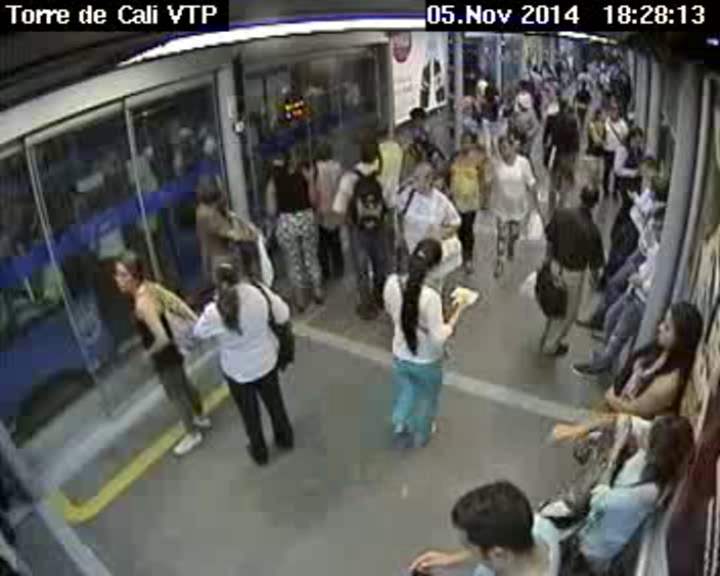person: (439, 472, 552, 572), (639, 406, 698, 483), (652, 291, 706, 365), (407, 231, 445, 289), (103, 251, 148, 297), (203, 253, 242, 287), (647, 205, 674, 248), (409, 157, 436, 193), (576, 177, 599, 215), (195, 181, 225, 209), (310, 135, 338, 164), (453, 127, 481, 156), (647, 174, 670, 208), (358, 135, 381, 168), (496, 131, 518, 162), (268, 149, 297, 169), (404, 105, 430, 125), (626, 125, 643, 146), (605, 103, 623, 122), (557, 93, 570, 111), (594, 108, 606, 123), (482, 85, 496, 97), (581, 79, 587, 89)
